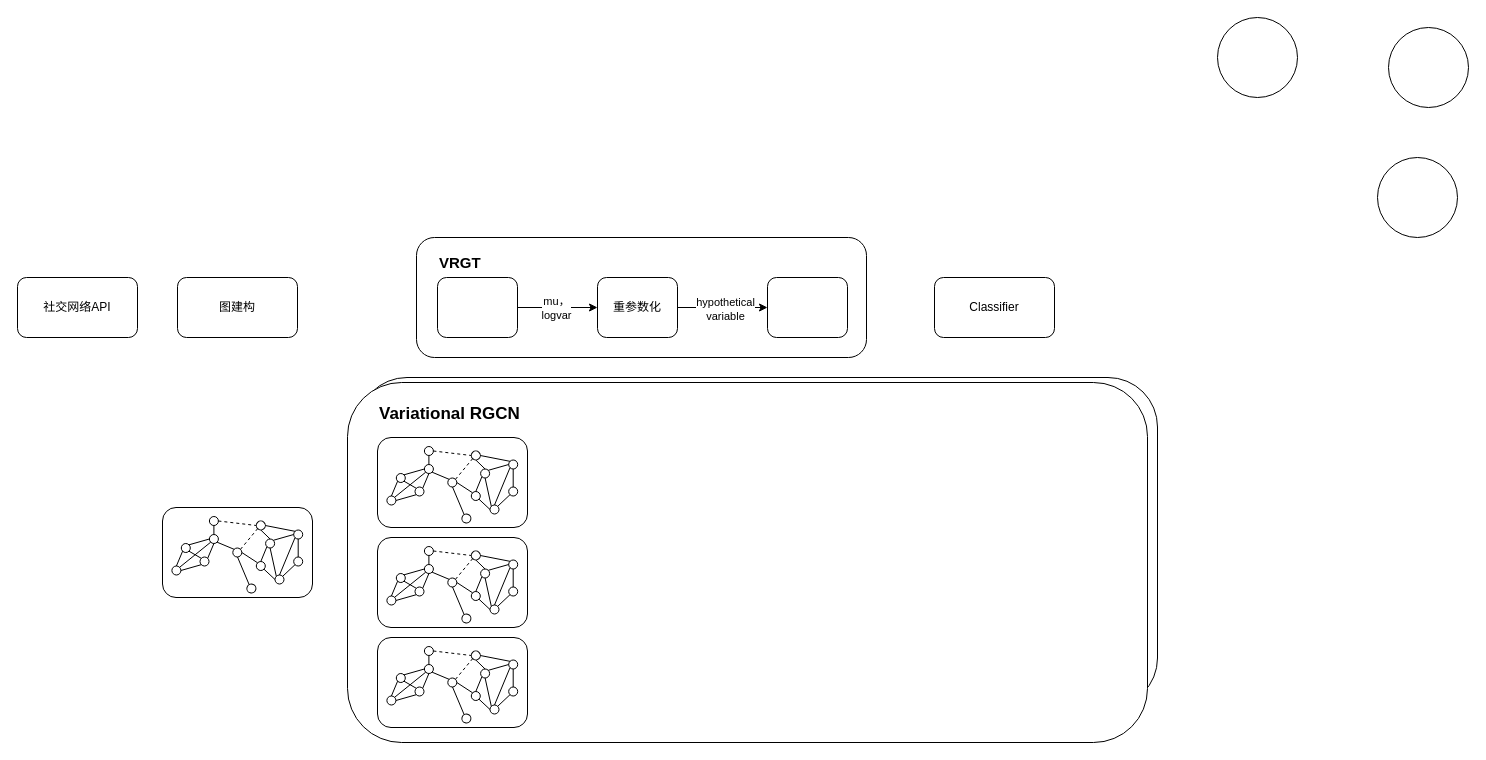
Some shapes in this 1486 by 760 pixel diagram are drawn without their labels. Each missing label, with the centre of its shape:
Encoder: the point at 477,307
Latent Space: the point at 807,307
